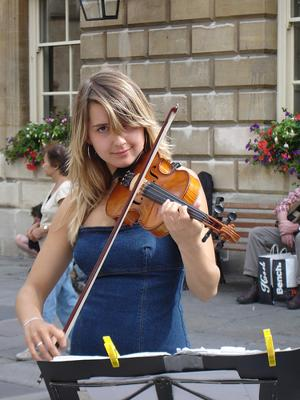person: (16, 71, 222, 362)
